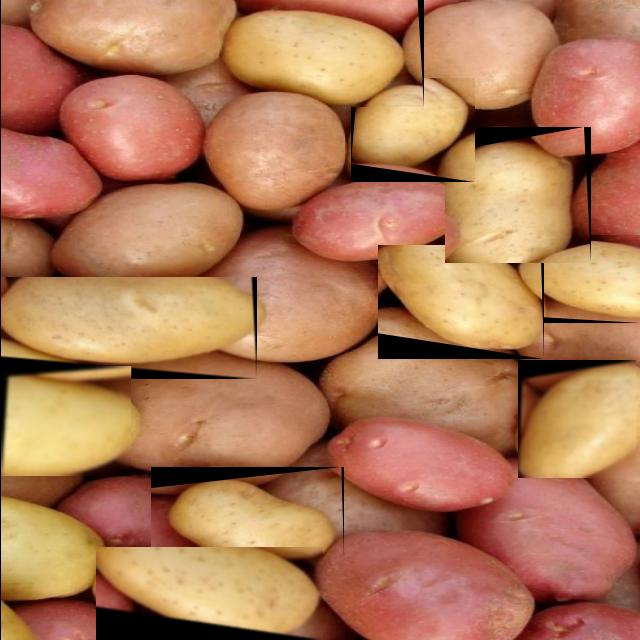potato: (0, 277, 256, 379), (218, 0, 423, 107), (95, 547, 322, 640), (444, 127, 590, 263), (377, 245, 543, 359), (150, 467, 343, 557), (0, 366, 130, 476), (517, 360, 635, 478), (350, 78, 474, 182), (512, 235, 640, 323)
